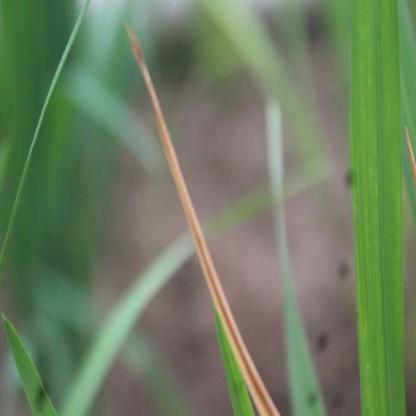Tungro: (127, 28, 281, 416)
